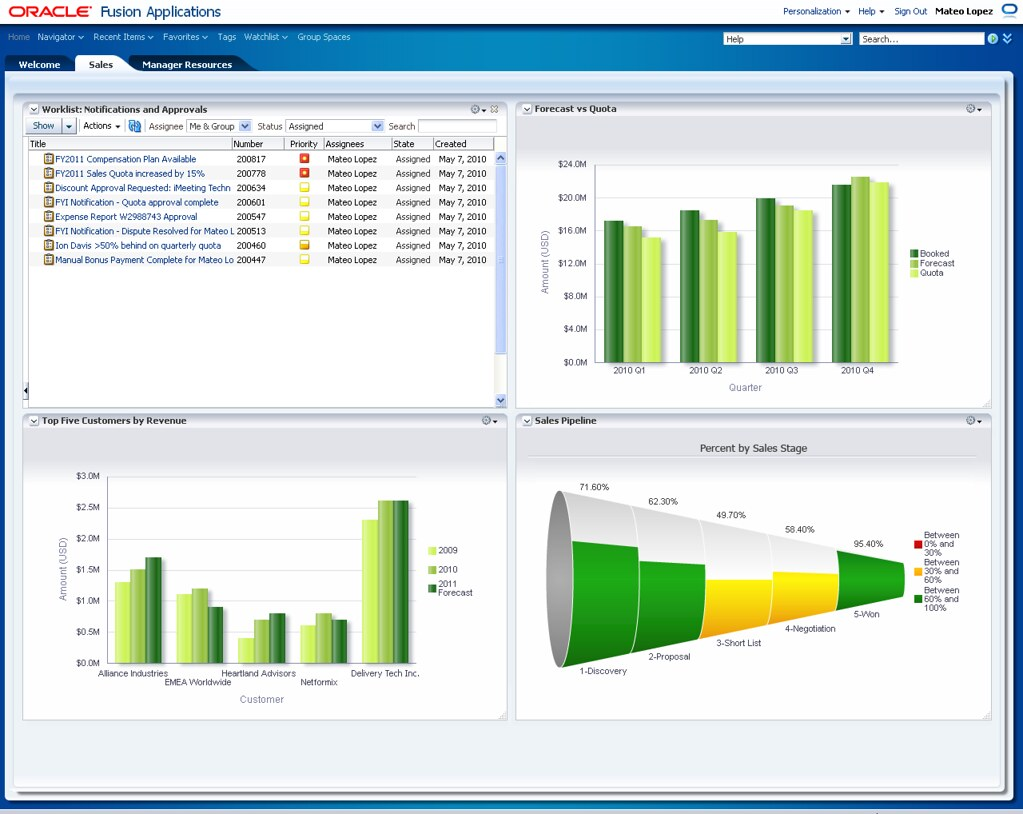button: (129, 54, 251, 72), (496, 165, 507, 354), (4, 55, 75, 72), (75, 54, 129, 73), (782, 4, 843, 17), (92, 30, 145, 43), (297, 31, 352, 43), (26, 117, 62, 134), (35, 30, 76, 43), (161, 31, 201, 43), (244, 31, 281, 43), (893, 5, 929, 17), (82, 120, 113, 131), (856, 4, 878, 17), (7, 31, 32, 42), (62, 117, 77, 134), (217, 31, 238, 43), (127, 119, 143, 134), (371, 118, 385, 132), (27, 414, 41, 427), (1001, 31, 1014, 45), (238, 120, 252, 133), (987, 32, 1000, 45), (841, 32, 853, 45), (28, 102, 40, 115), (21, 382, 29, 401), (495, 395, 507, 407), (521, 415, 533, 426), (145, 31, 156, 43), (521, 103, 533, 114), (482, 414, 492, 427), (842, 5, 852, 18), (470, 103, 481, 114), (965, 103, 976, 114), (76, 31, 86, 43), (489, 104, 500, 114), (496, 151, 506, 162), (200, 31, 209, 43), (280, 31, 289, 42), (878, 5, 886, 17), (966, 415, 975, 425), (976, 417, 983, 426), (975, 106, 984, 113), (492, 417, 499, 425), (114, 122, 121, 130), (480, 107, 488, 113)
common: (922, 529, 959, 558), (922, 586, 960, 612), (922, 559, 961, 583), (221, 667, 297, 679), (934, 5, 995, 18), (350, 667, 420, 678), (97, 668, 169, 678), (782, 623, 837, 636), (165, 677, 232, 687), (578, 664, 629, 677), (716, 636, 763, 650), (439, 579, 473, 597), (647, 650, 694, 663), (781, 519, 819, 535), (850, 535, 887, 551), (716, 506, 748, 521), (148, 121, 185, 133), (578, 481, 612, 494), (646, 494, 680, 507), (300, 676, 338, 687), (852, 607, 883, 620), (688, 364, 724, 375), (841, 365, 875, 376), (557, 224, 588, 236), (557, 257, 588, 269), (256, 120, 284, 133), (557, 157, 587, 169), (764, 365, 800, 375), (611, 366, 646, 376), (388, 121, 417, 133), (557, 192, 587, 203), (919, 249, 951, 259), (75, 469, 101, 481), (75, 625, 101, 637), (562, 290, 588, 302), (75, 594, 100, 606), (76, 657, 101, 669), (76, 532, 100, 544), (75, 501, 101, 512), (75, 563, 101, 574), (562, 323, 588, 334), (563, 356, 588, 367), (920, 260, 957, 267), (920, 268, 944, 278), (438, 545, 458, 555), (438, 564, 458, 574)
container: (1, 74, 1023, 814), (15, 92, 1003, 790), (20, 412, 508, 721), (22, 101, 508, 407), (515, 102, 992, 409), (517, 414, 992, 721), (21, 429, 507, 720), (517, 427, 992, 720), (516, 117, 992, 409), (1, 25, 1023, 70), (1, 1, 1023, 23), (21, 412, 508, 429), (23, 102, 508, 118), (516, 101, 992, 117), (5, 28, 356, 47), (911, 526, 963, 618), (721, 31, 1015, 47), (2, 55, 255, 73), (494, 151, 507, 408), (425, 543, 474, 600), (386, 117, 500, 134), (907, 246, 959, 279), (147, 118, 253, 133), (723, 33, 852, 45), (286, 118, 386, 133), (782, 4, 853, 18), (92, 30, 157, 44), (25, 117, 78, 134), (427, 579, 473, 598), (187, 120, 252, 133), (35, 30, 87, 44), (161, 31, 209, 44), (82, 118, 123, 133), (244, 32, 289, 44), (908, 258, 958, 268), (909, 247, 952, 258), (426, 544, 460, 557), (426, 563, 459, 576), (909, 268, 945, 279), (856, 5, 886, 18), (482, 414, 500, 428), (965, 414, 984, 427), (470, 103, 490, 115), (964, 103, 985, 114)
header: (99, 3, 222, 20), (42, 414, 190, 427), (42, 104, 211, 115), (697, 439, 811, 454), (534, 103, 618, 114), (536, 414, 598, 428), (57, 536, 69, 603), (538, 229, 550, 296), (240, 693, 285, 706), (727, 382, 763, 394)
image: (545, 487, 907, 680), (590, 160, 900, 365), (105, 473, 418, 665), (5, 1, 94, 21), (1000, 1, 1020, 21), (42, 166, 56, 178), (42, 152, 54, 165), (42, 180, 54, 193), (43, 224, 55, 236), (43, 238, 54, 251), (43, 252, 54, 265), (913, 593, 924, 605), (427, 545, 438, 556), (43, 196, 54, 207), (43, 210, 54, 221), (913, 537, 923, 549), (427, 564, 437, 575), (299, 153, 309, 163), (299, 168, 309, 178), (299, 211, 309, 221), (299, 224, 309, 234), (300, 254, 310, 264), (300, 181, 309, 192), (427, 584, 437, 593), (299, 197, 309, 206), (299, 240, 309, 249), (910, 248, 919, 258), (909, 269, 919, 278), (909, 259, 918, 268), (914, 567, 922, 577)
table: (28, 136, 492, 267)
table-cell: (27, 250, 234, 266), (27, 165, 234, 179), (27, 180, 234, 194), (27, 223, 234, 237), (28, 150, 234, 164), (28, 136, 232, 150), (27, 195, 234, 208), (27, 209, 234, 222), (27, 237, 234, 250), (324, 251, 390, 267), (433, 163, 492, 179), (432, 208, 491, 224), (433, 251, 492, 267), (324, 150, 391, 164), (324, 180, 391, 194), (324, 165, 390, 179), (324, 209, 390, 223), (323, 137, 392, 150), (433, 179, 492, 194), (324, 195, 391, 208), (324, 223, 390, 236), (324, 237, 390, 250), (433, 149, 493, 163), (234, 251, 286, 267), (432, 194, 491, 208), (432, 237, 492, 250), (433, 224, 492, 237), (433, 138, 494, 150), (234, 150, 286, 164), (234, 165, 286, 179), (234, 180, 286, 194), (231, 136, 286, 149), (391, 163, 434, 179), (234, 195, 286, 208), (234, 209, 286, 222), (234, 223, 286, 236), (234, 237, 286, 250), (390, 251, 432, 267), (389, 235, 433, 250), (390, 179, 433, 194), (390, 208, 432, 223), (390, 149, 434, 163), (286, 251, 324, 267), (391, 194, 433, 208), (389, 223, 432, 236), (285, 150, 324, 164), (286, 165, 324, 179), (286, 180, 324, 194), (286, 237, 324, 251), (285, 137, 324, 150), (392, 138, 434, 150), (286, 195, 324, 208), (286, 209, 324, 222), (286, 223, 324, 236)
table-row: (27, 251, 492, 267), (28, 165, 493, 180), (28, 180, 492, 195), (27, 209, 491, 224), (28, 136, 494, 150), (28, 150, 494, 164), (27, 237, 493, 251), (27, 195, 491, 209), (27, 224, 492, 237)
text-input: (859, 32, 984, 45), (723, 31, 842, 44), (418, 118, 498, 134), (286, 119, 371, 133), (187, 120, 239, 133)
